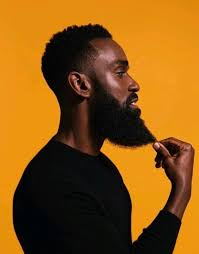b.y: (120, 96, 145, 148)
